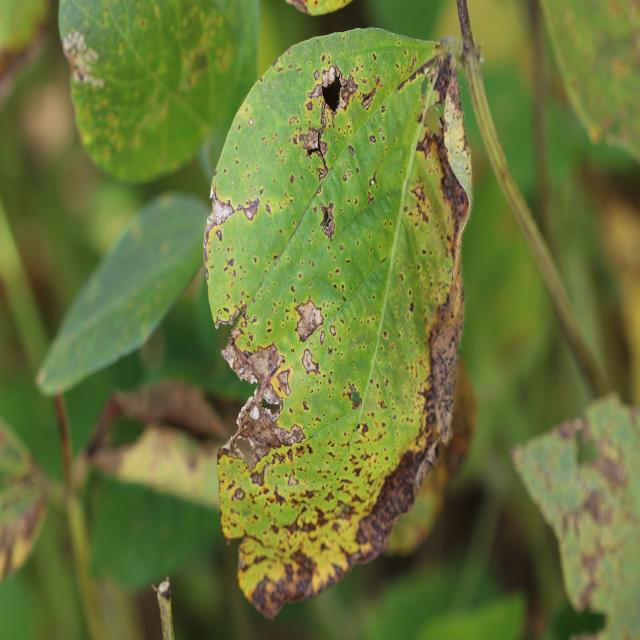Bacterial_Blight: (565, 471, 638, 609), (359, 442, 439, 564), (229, 341, 294, 464), (202, 189, 261, 306), (424, 269, 462, 447), (235, 541, 312, 617), (431, 131, 470, 250), (308, 63, 362, 128), (387, 41, 438, 98), (61, 26, 103, 89), (587, 446, 627, 489), (293, 296, 326, 342), (453, 1, 477, 60), (406, 181, 431, 226), (208, 191, 236, 225), (416, 126, 435, 160), (320, 201, 335, 240), (345, 382, 362, 409), (315, 150, 329, 179), (308, 83, 324, 100), (231, 486, 245, 501), (320, 103, 328, 128), (369, 171, 378, 192), (209, 183, 216, 199)
Soybean: (204, 29, 472, 619)
